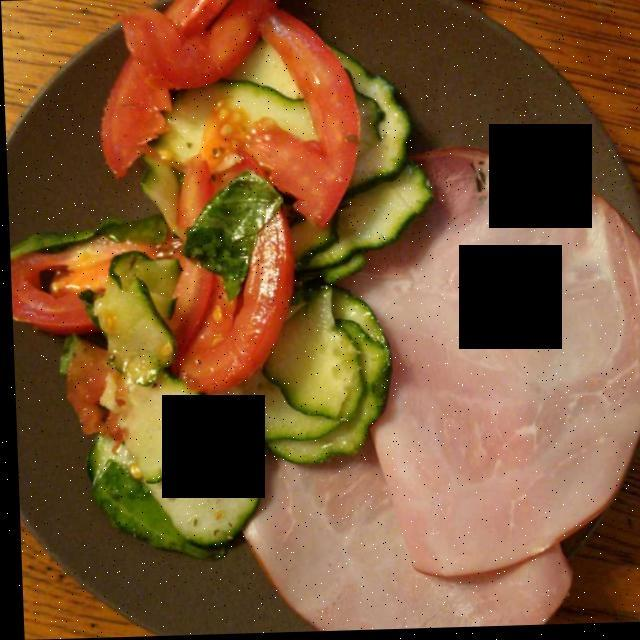ham: (226, 156, 637, 617)
tomato: (21, 14, 368, 419)
